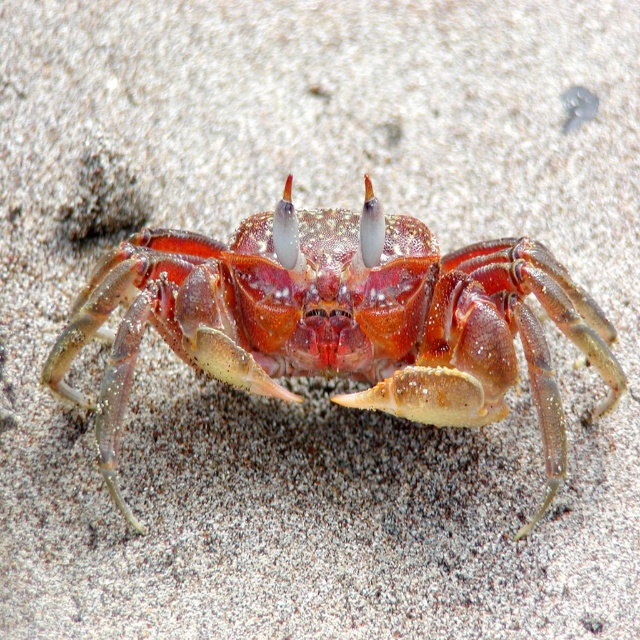Crab: (41, 170, 636, 539)
